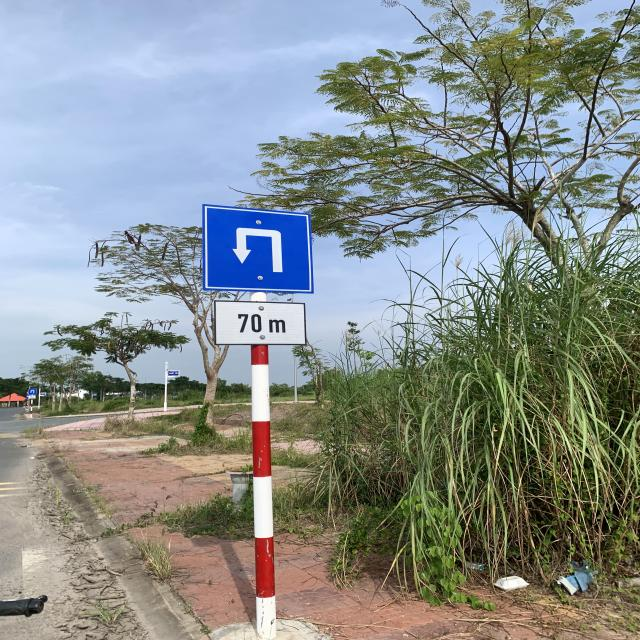Den_Giao_Thong: (206, 208, 312, 290)
